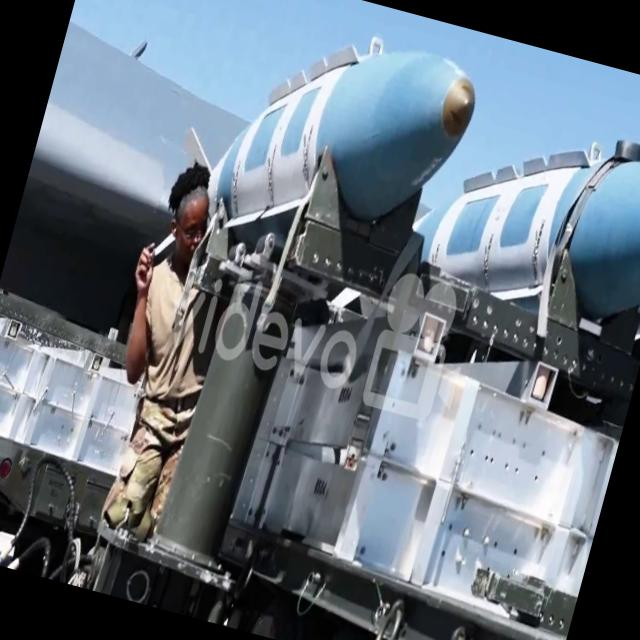rocket: (204, 18, 484, 289), (439, 119, 640, 344)
